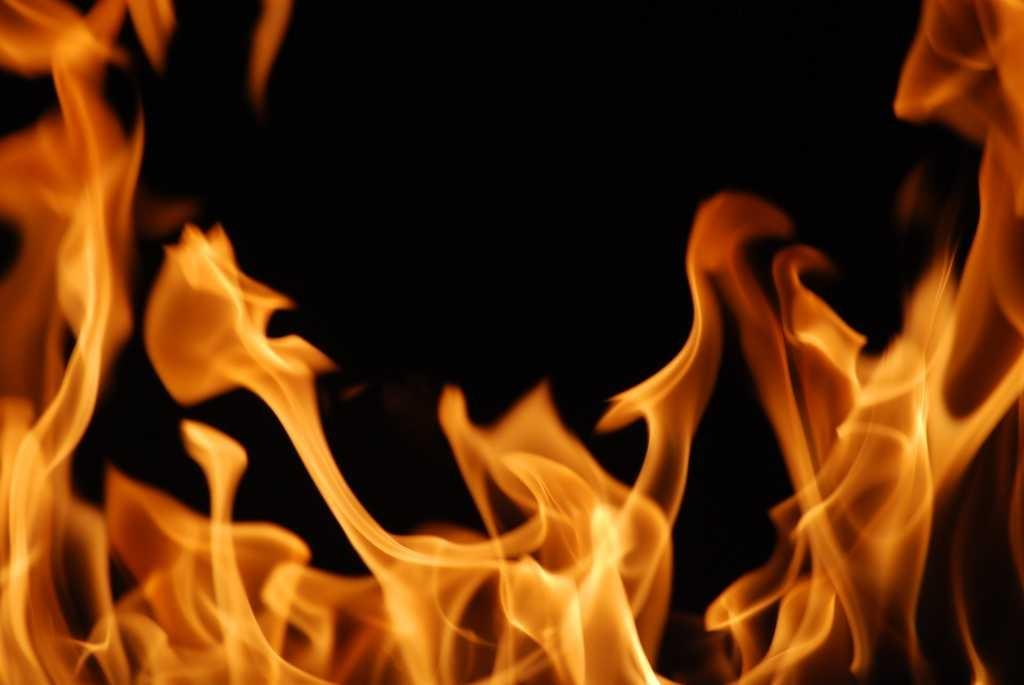fire: (0, 11, 338, 671), (358, 403, 1020, 665), (878, 5, 1008, 373)
